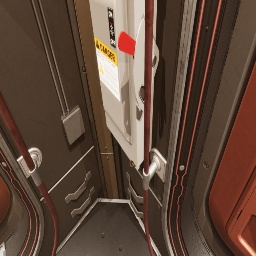SafetySwitchPanel ,: (89, 0, 159, 170)
